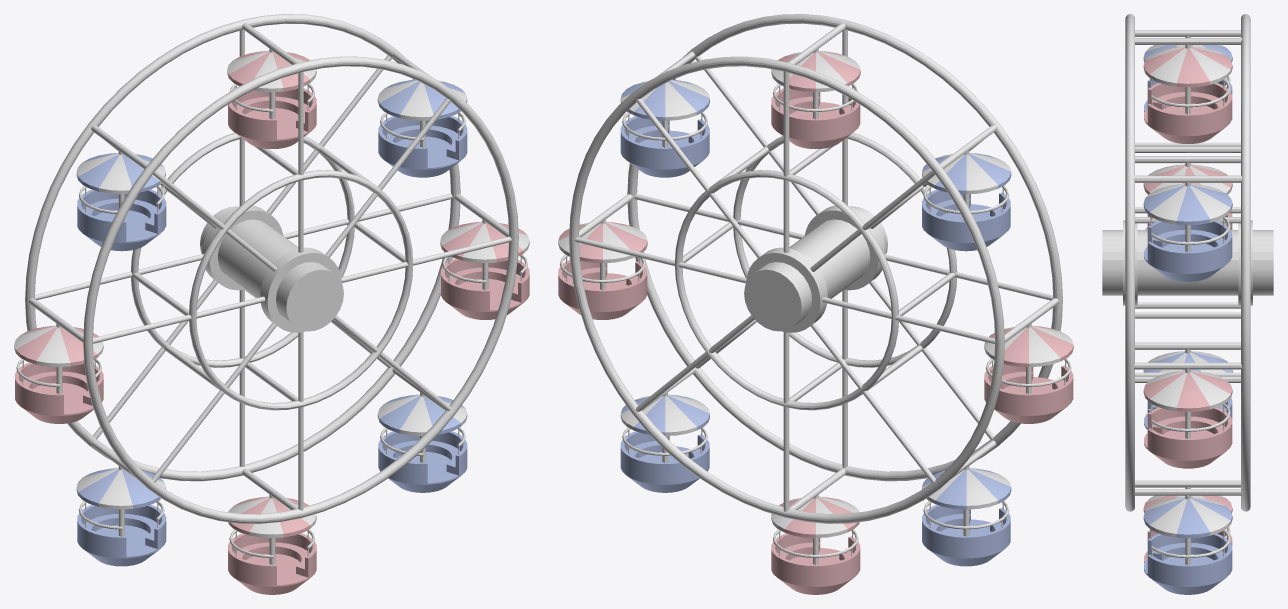
File: Ferris.glb
The picture shows the model from 3 angles, left to right: view 1: azimuth 30°, elevation 25°; view 2: azimuth 150°, elevation 25°; view 3: azimuth 270°, elevation 25°; orthographic projection.
Parts seen in each view (by area): view 1: FerrisWheel02, F08, F04, F07, F01, F02, F06, F05, F03; view 2: FerrisWheel02, F08, F04, F07, F01, F02, F06, F05, F03; view 3: FerrisWheel02, F03, F04, F02, F05, F08, F07, F01, F06.
Boxes of the visible parts, x1,y1,x2,y2 form: FerrisWheel02: [25, 14, 518, 523]; F08: [76, 466, 166, 566]; F04: [377, 79, 467, 177]; F07: [14, 323, 103, 423]; F01: [228, 494, 316, 594]; F02: [377, 392, 467, 492]; F06: [76, 150, 166, 251]; F05: [227, 48, 316, 148]; F03: [440, 219, 529, 319]; FerrisWheel02: [569, 14, 1062, 523]; F08: [922, 466, 1011, 566]; F04: [620, 79, 709, 177]; F07: [984, 323, 1073, 423]; F01: [771, 494, 860, 594]; F02: [620, 392, 709, 492]; F06: [922, 151, 1011, 251]; F05: [771, 48, 860, 149]; F03: [558, 219, 647, 319]; FerrisWheel02: [1102, 14, 1273, 511]; F03: [1143, 368, 1232, 468]; F04: [1143, 182, 1232, 281]; F02: [1143, 495, 1232, 594]; F05: [1143, 44, 1232, 143]; F08: [1143, 349, 1232, 429]; F07: [1143, 162, 1232, 229]; F01: [1143, 487, 1232, 562]; F06: [1143, 36, 1232, 112].
Size of the model in its own units: 2.6 by 2.68 by 0.7729.
